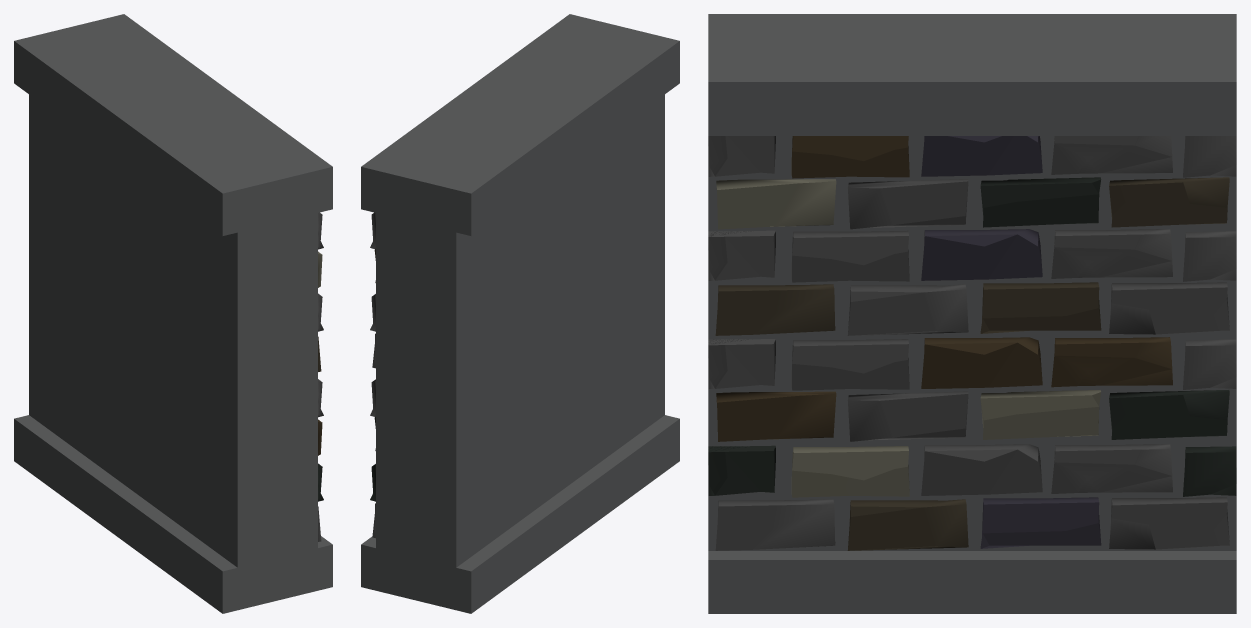
The model's file is Wall1 (1).fbx.
The picture shows the model from 3 angles, left to right: view 1: azimuth 30°, elevation 25°; view 2: azimuth 150°, elevation 25°; view 3: azimuth 270°, elevation 25°; orthographic projection. The views are drawn at different scales.
Visible parts, largest first — view 1: Wall1; view 2: Wall1; view 3: Wall1.
Boxes of the visible parts, left/top/right/bottom form: Wall1: left=14, top=14, right=332, bottom=613; Wall1: left=361, top=14, right=679, bottom=613; Wall1: left=708, top=14, right=1236, bottom=613.
Bounding box in the file's own units: 137 × 500 × 450.
